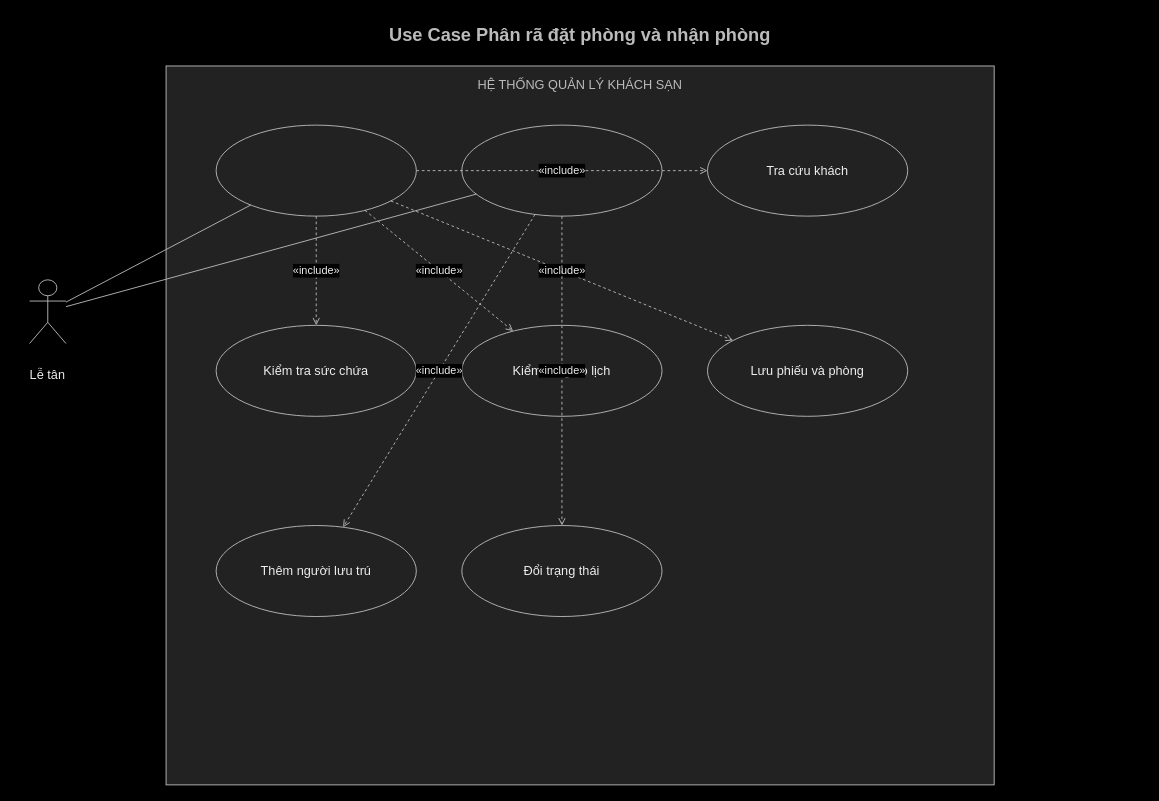
The diagram is 1159 pixels wide and 801 high, and some of its shapes have lost their labels. The centre of each missing label's shape, as x and y in pixels:
"Nhận phòng" goes at (x=561, y=170).
"Đặt phòng" goes at (x=315, y=170).
